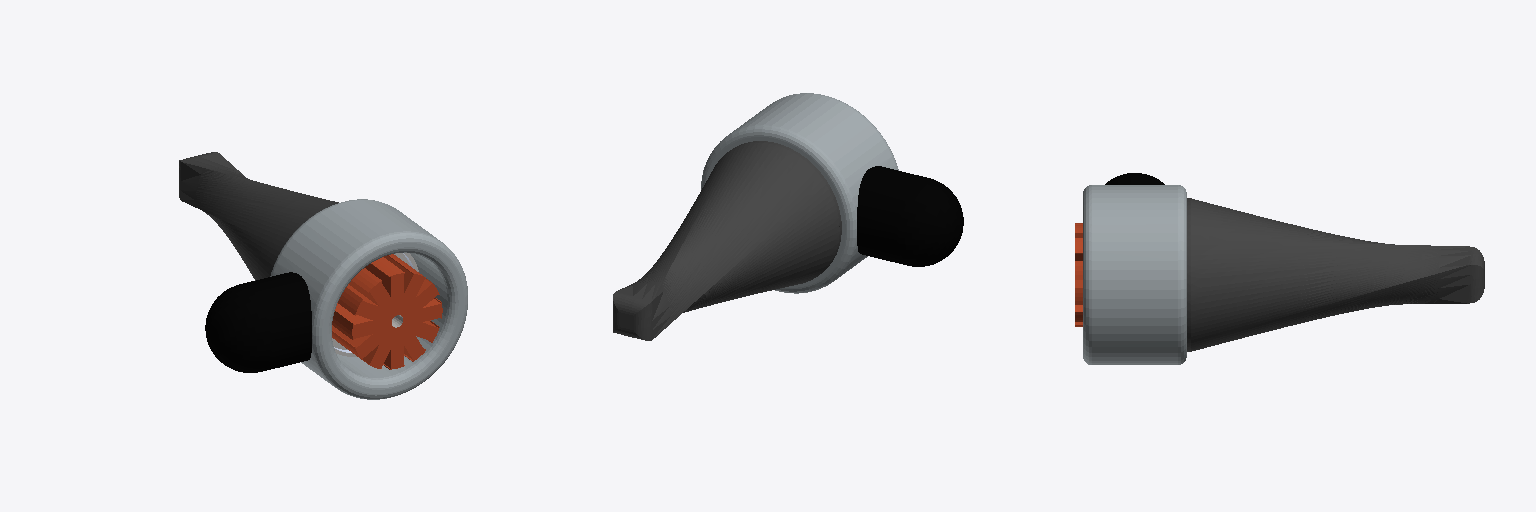
The model's file is Engine_holder.obj.
3 renders of one model, left to right at view 1: azimuth 30°, elevation 25°; view 2: azimuth 150°, elevation 25°; view 3: azimuth 270°, elevation 25°, orthographic.
Parts seen in each view (by area): view 1: Solid1, Solid1:1, Solid1:2; view 2: Solid1:2, Solid1; view 3: Solid1:2, Solid1, Solid1:1.
Part boxes in pixels (left/top/right/bottom): Solid1: left=205, top=199, right=467, bottom=399; Solid1:1: left=332, top=253, right=442, bottom=369; Solid1:2: left=179, top=152, right=338, bottom=280; Solid1:2: left=613, top=141, right=841, bottom=340; Solid1: left=701, top=93, right=963, bottom=293; Solid1:2: left=1187, top=198, right=1484, bottom=351; Solid1: left=1083, top=173, right=1186, bottom=364; Solid1:1: left=1075, top=223, right=1082, bottom=326.
Bounding box in the file's own units: 0.06 × 0.04 × 0.0907.